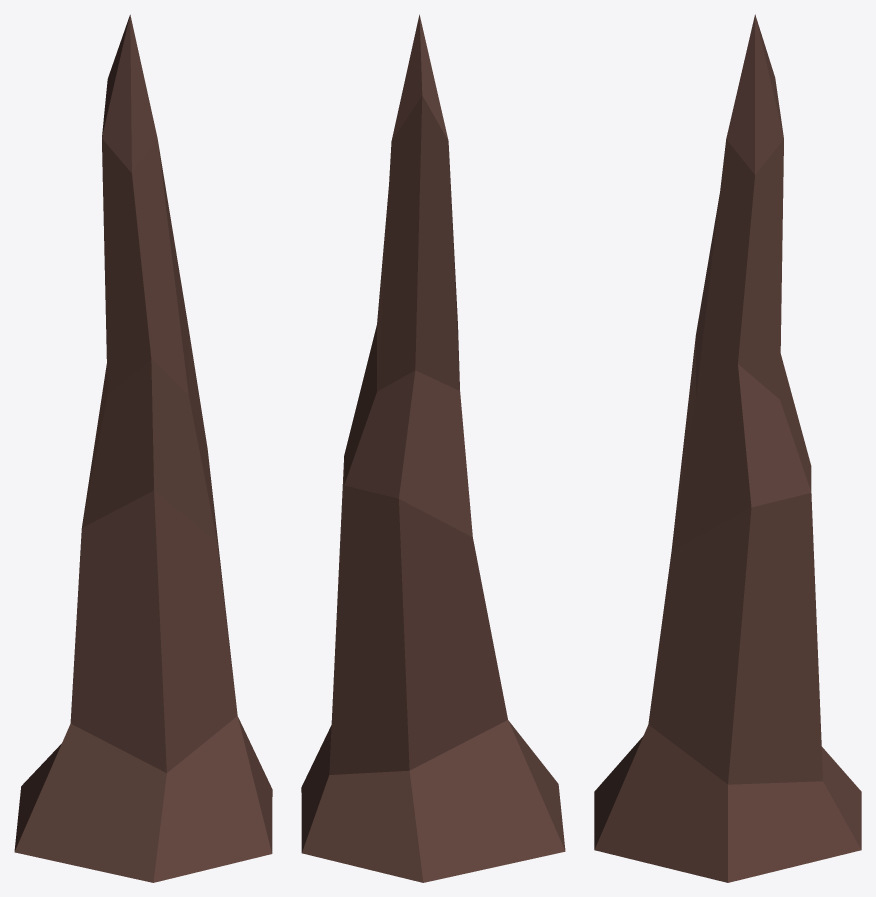
File: Stalagmite-B06.fbx
3 renders of one model, left to right at view 1: azimuth 30°, elevation 25°; view 2: azimuth 150°, elevation 25°; view 3: azimuth 270°, elevation 25°, orthographic. The views are drawn at different scales.
Parts seen in each view (by area): view 1: Stalagmite-B06; view 2: Stalagmite-B06; view 3: Stalagmite-B06.
Part boxes in pixels (bbox=[...]): Stalagmite-B06: bbox=[14, 14, 272, 882]; Stalagmite-B06: bbox=[301, 14, 565, 882]; Stalagmite-B06: bbox=[594, 14, 861, 882].
Size of the model in its own units: 90.64 by 267 by 80.42.
